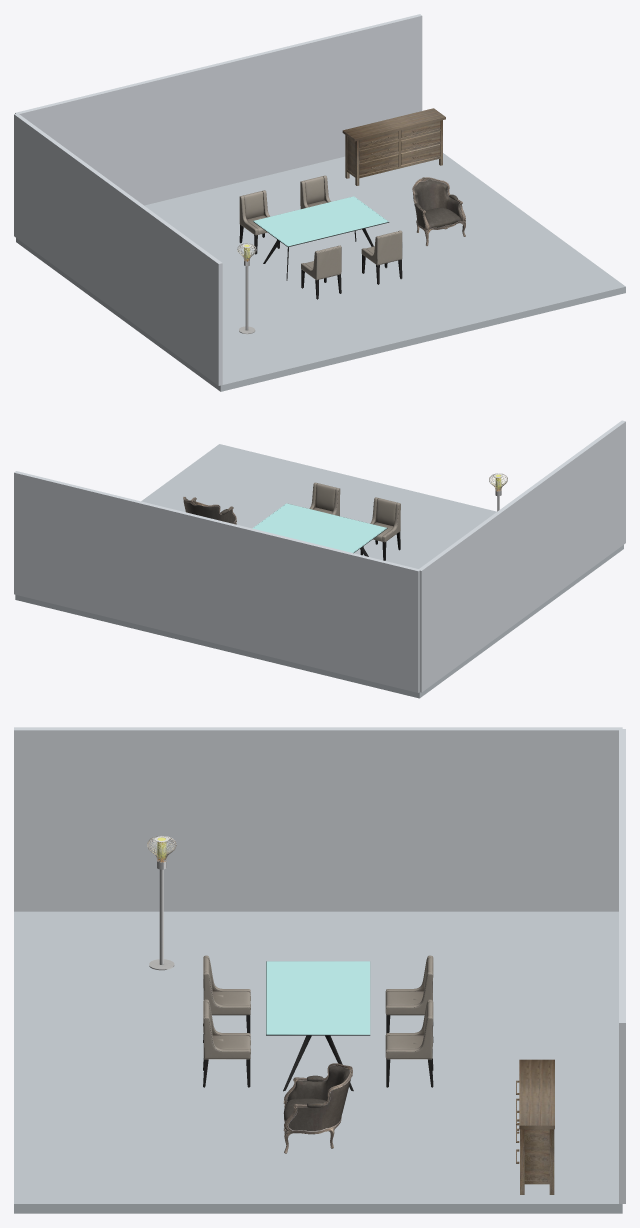
File: stage2.glb
The picture shows the model from 3 angles, top to bottom: view 1: azimuth 30°, elevation 25°; view 2: azimuth 150°, elevation 25°; view 3: azimuth 270°, elevation 25°; orthographic projection. The views are drawn at different scales.
Parts seen in each view (by area): view 1: Floor, wall_back, wall_left, raw_model.005, raw_model, raw_model.006, raw_model.001, raw_model.002, raw_model.004, raw_model.003; view 2: wall_back, wall_left, Floor, raw_model, raw_model.002, raw_model.001, raw_model.006; view 3: Floor, wall_left, raw_model, raw_model.005, raw_model.006, wall_back, raw_model.001, raw_model.003, raw_model.002, raw_model.004, solid_003.
Part boxes in pixels (<box>): Floor: <box>16,153,625,391</box>; wall_back: <box>15,14,422,205</box>; wall_left: <box>14,113,222,385</box>; raw_model.005: <box>342,108,445,185</box>; raw_model: <box>253,196,389,280</box>; raw_model.006: <box>412,177,465,245</box>; raw_model.001: <box>361,230,402,284</box>; raw_model.002: <box>301,245,341,299</box>; raw_model.004: <box>239,190,279,254</box>; raw_model.003: <box>300,175,330,208</box>; wall_back: <box>14,471,419,692</box>; wall_left: <box>418,420,625,692</box>; Floor: <box>15,444,623,698</box>; raw_model: <box>252,503,387,556</box>; raw_model.002: <box>360,497,400,560</box>; raw_model.001: <box>309,482,340,516</box>; raw_model.006: <box>183,497,236,524</box>; Floor: <box>14,911,622,1213</box>; wall_left: <box>14,727,622,911</box>; raw_model: <box>266,961,370,1091</box>; raw_model.005: <box>516,1059,554,1194</box>; raw_model.006: <box>283,1063,352,1153</box>; wall_back: <box>619,729,625,1203</box>; raw_model.001: <box>203,999,250,1087</box>; raw_model.003: <box>385,999,433,1087</box>; raw_model.002: <box>203,955,250,1042</box>; raw_model.004: <box>385,955,433,1042</box>; solid_003: <box>149,861,174,970</box>.
Bounding box in the file's own units: 8.04 × 2.42 × 7.04.
10 materials, 8 textured.
